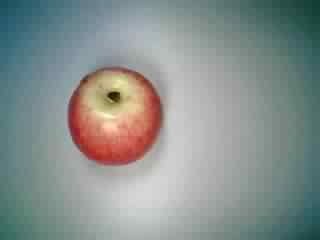apple: (64, 67, 168, 167)
